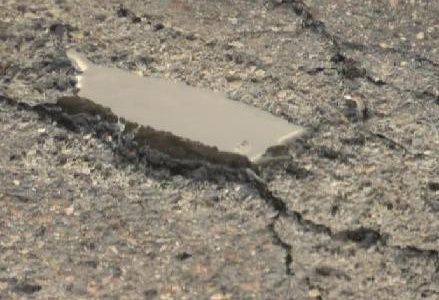pothole: (19, 41, 326, 192)
